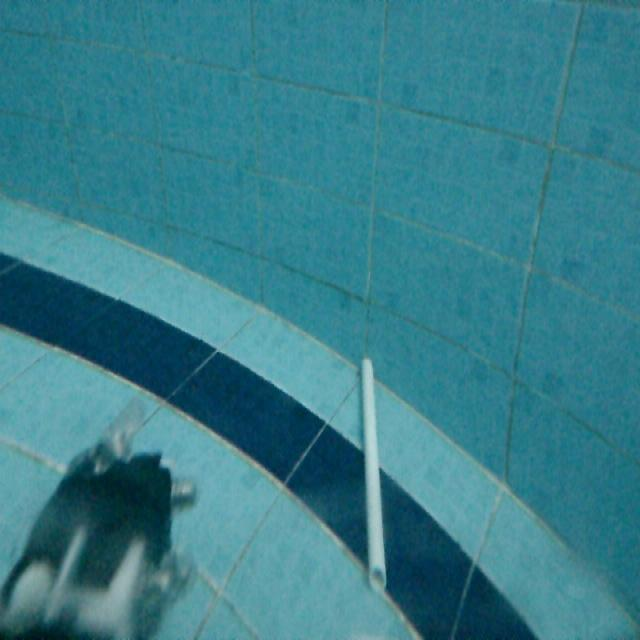Cube: (356, 351, 390, 592)
